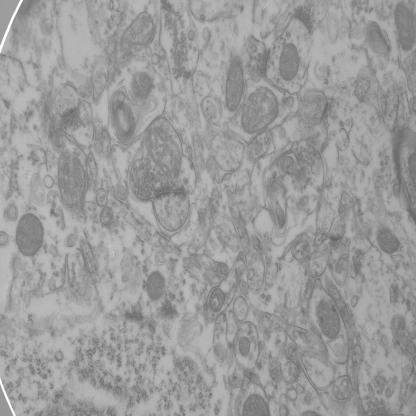mitochondria: (238, 82, 281, 136), (54, 149, 86, 212), (13, 209, 45, 260), (221, 50, 245, 113), (393, 0, 416, 54), (276, 38, 301, 87), (314, 296, 340, 339), (374, 223, 404, 257), (128, 68, 156, 104), (145, 266, 167, 304)
